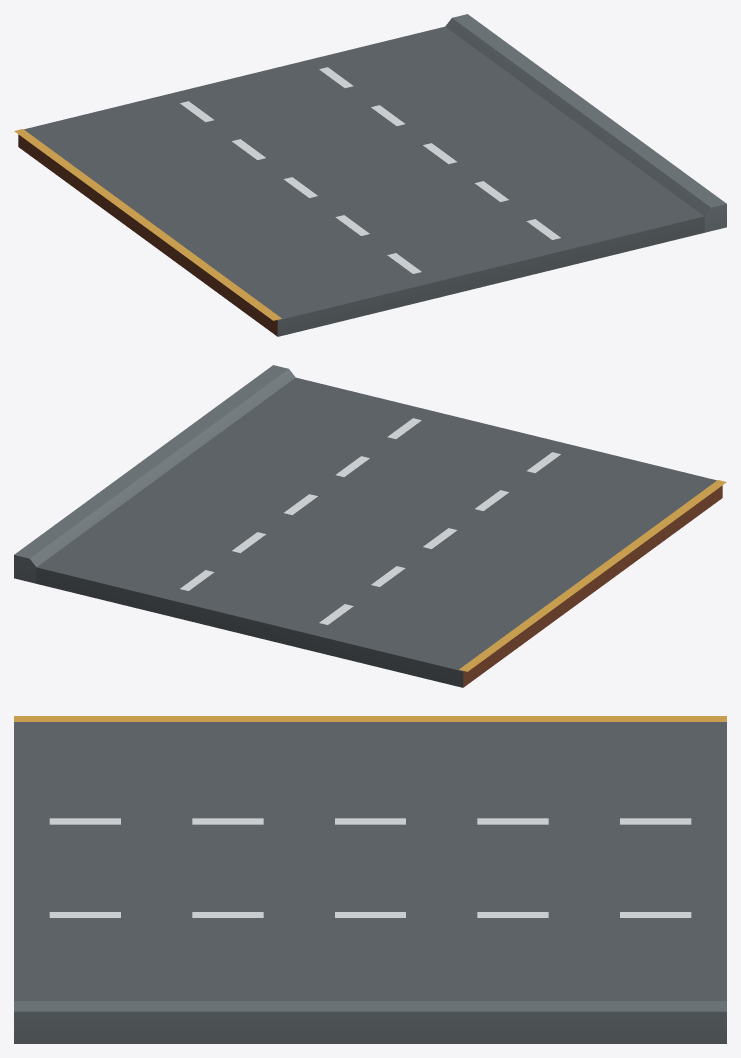
The model's file is road_3_lanes_straight_l.glb.
3 views of the same model, one above another, from view 1: azimuth 30°, elevation 25°; view 2: azimuth 150°, elevation 25°; view 3: azimuth 270°, elevation 25° (orthographic). The views are drawn at different scales.
Parts seen in each view (by area): view 1: road_3_lane_straight_l; view 2: road_3_lane_straight_l; view 3: road_3_lane_straight_l.
Boxes of the visible parts, bbox=[...] form: road_3_lane_straight_l: bbox=[14, 14, 726, 336]; road_3_lane_straight_l: bbox=[14, 365, 726, 687]; road_3_lane_straight_l: bbox=[14, 716, 726, 1043].
Size of what is drawn, in the model's own units: 10.1 by 0.5 by 10.
Materials: 1 (1 with a texture image).
